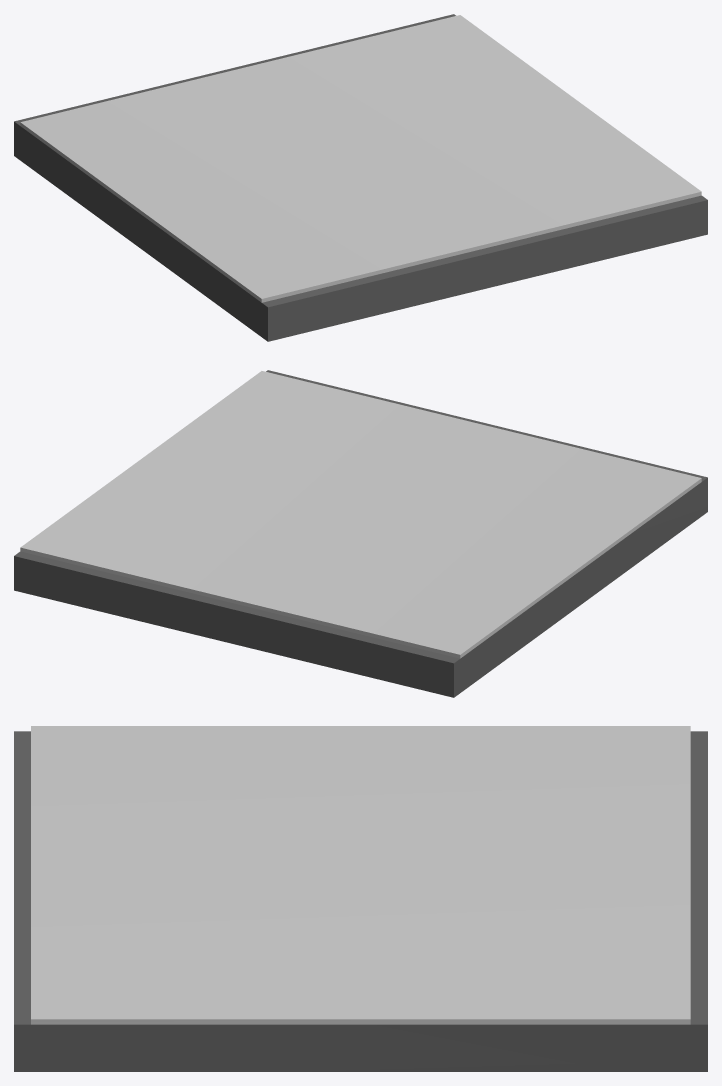
File: StationFloorFloor.fbx
The picture shows the model from 3 angles, top to bottom: view 1: azimuth 30°, elevation 25°; view 2: azimuth 150°, elevation 25°; view 3: azimuth 270°, elevation 25°; orthographic projection. The views are drawn at different scales.
Visible parts, largest first — view 1: Cube.006; view 2: Cube.006; view 3: Cube.006.
Part boxes in pixels (x1=…): Cube.006: x1=14, y1=14, x2=707, y2=341; Cube.006: x1=14, y1=370, x2=707, y2=697; Cube.006: x1=14, y1=726, x2=707, y2=1071.
Size of the model in its own units: 240 by 20 by 240.
